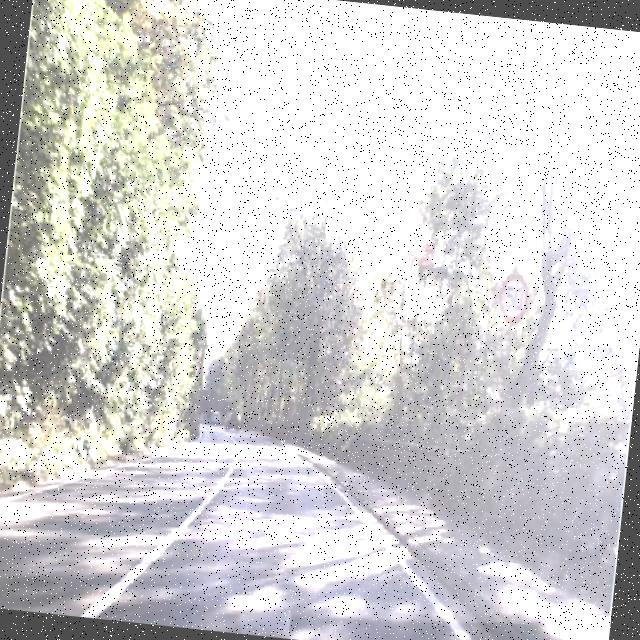Ograniczenie predkosci do 50: (494, 267, 534, 330)
